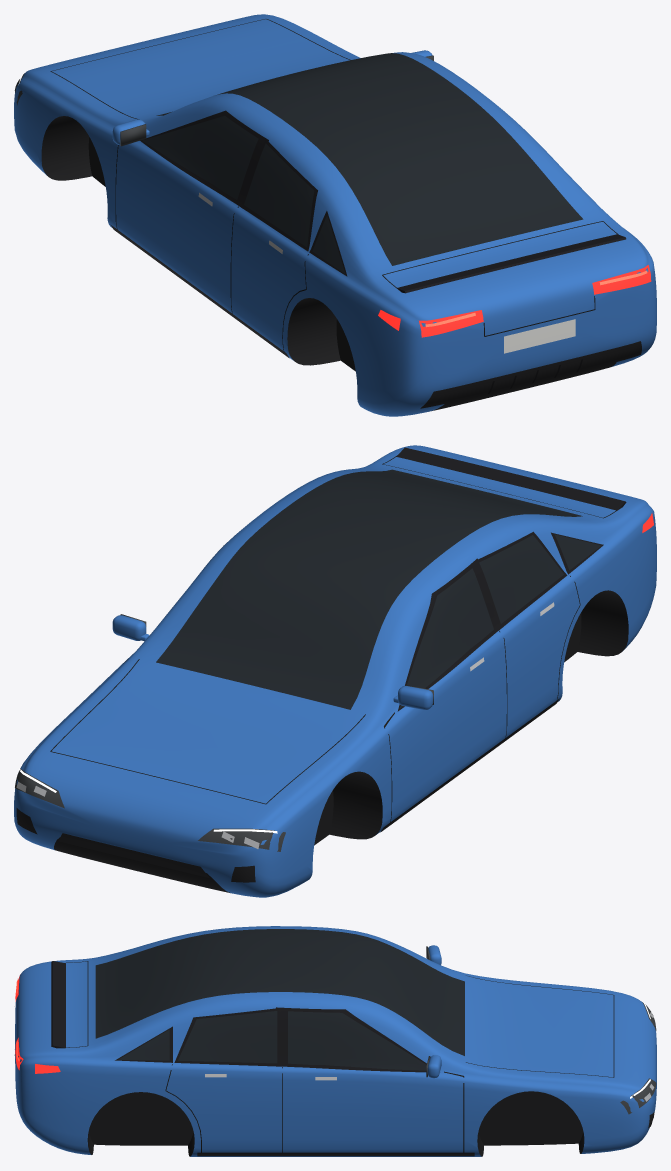
The model's file is sedan_halden_e4.glb.
3 views of the same model, one above another, from view 1: azimuth 30°, elevation 25°; view 2: azimuth 150°, elevation 25°; view 3: azimuth 270°, elevation 25° (orthographic). The views are drawn at different scales.
Visible parts, largest first — view 1: body, details; view 2: body, details; view 3: body, details.
Boxes of the visible parts, x1,y1,x2,y2 form: body: (14,14,656,416); details: (14,19,651,408); body: (14,445,656,897); details: (15,447,653,882); body: (15,926,656,1156); details: (14,945,656,1156).
Size of the model in its own units: 2.13 by 1.26 by 4.74.
